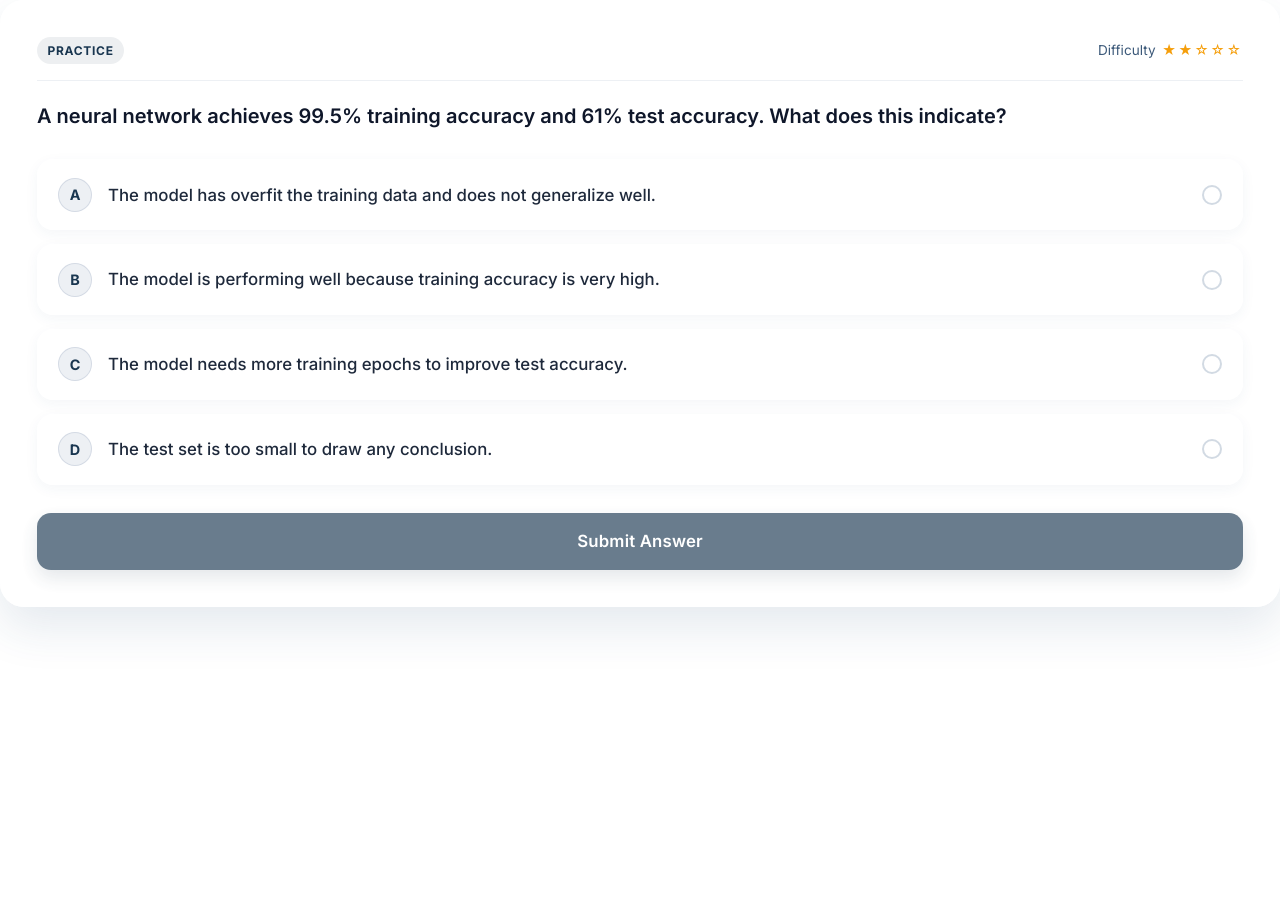
Test: Module 5: Answer Submission Component Tests › renders correct result banner and option styling on correct answer
This screenshot has width=1280, height=900.
Note: Select option 1
What coordinates should you click on to do the following:
click the radio button with aria-label "Option A: The model has overfit the training data and does n"
I would click on:
 (640, 195)
Its box is top-left (37, 159), bottom-right (1243, 230).
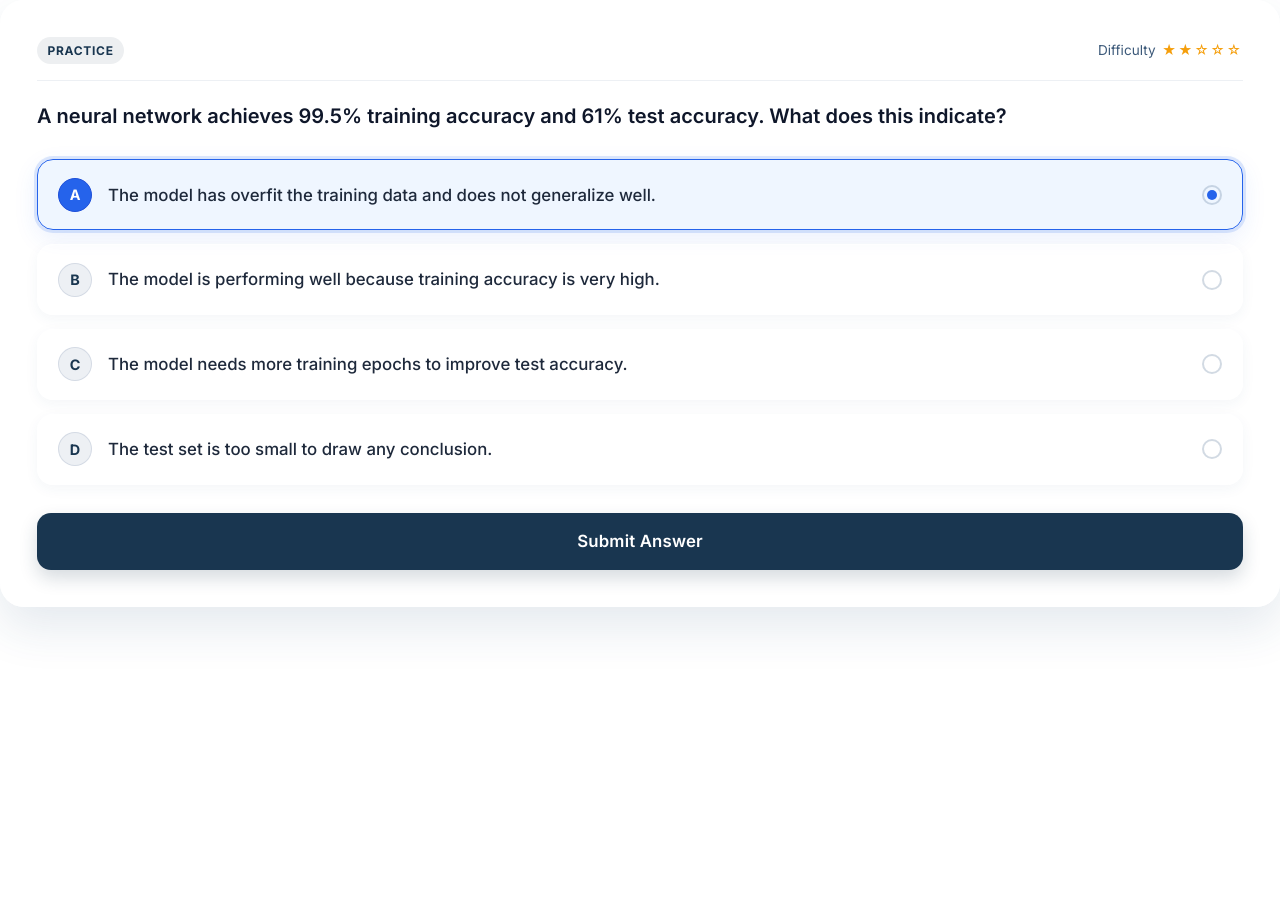
What coordinates should you click on to do the following:
click the button "Submit Answer"
I would click on:
 (640, 541)
Its box is top-left (37, 513), bottom-right (1243, 570).
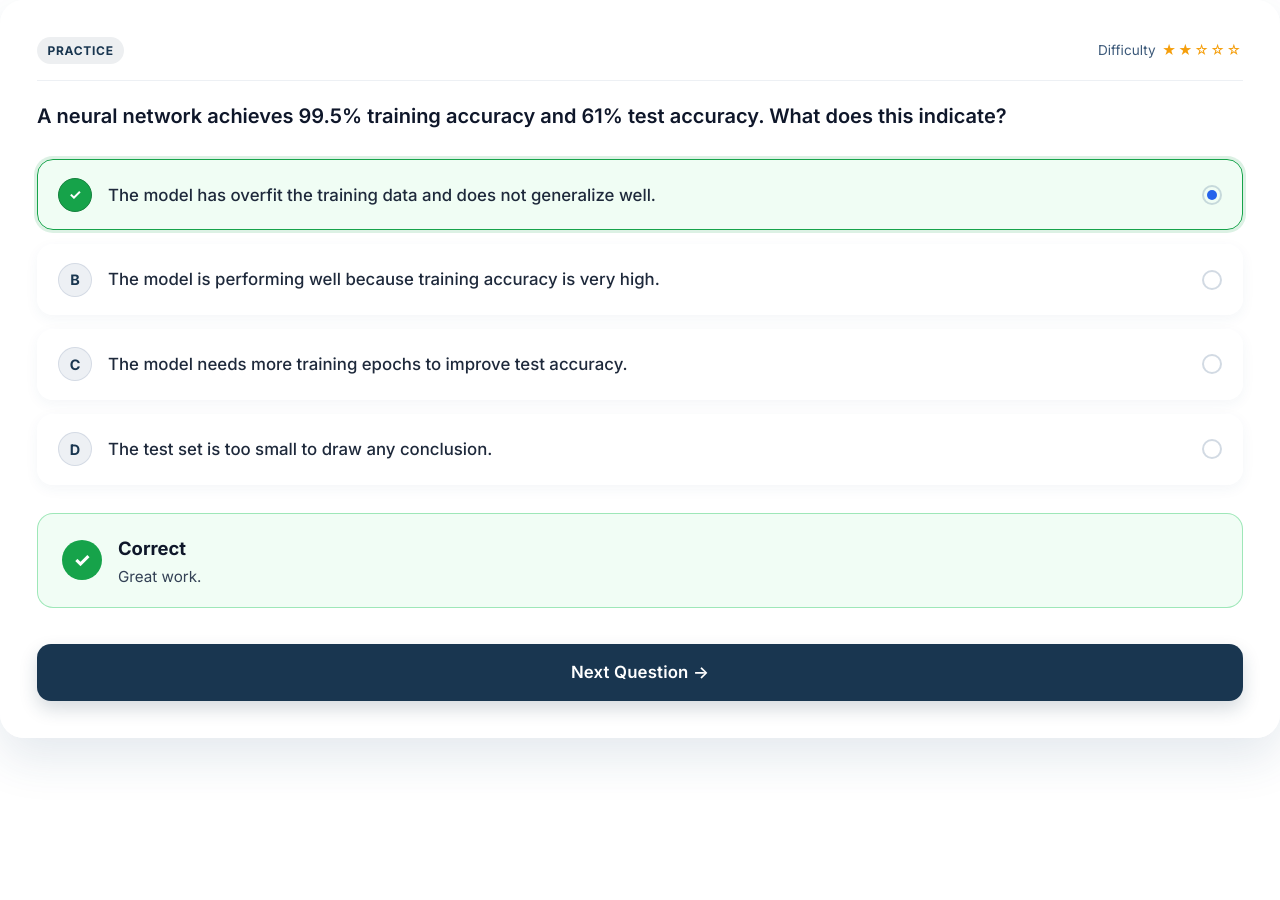
Expected: the message "✓ Correct Great work." is shown, top-left (37, 513), bottom-right (1243, 608)
Expected: the heading "Correct" is shown, top-left (118, 537), bottom-right (186, 559)
Expected: the text "Great work." is shown, top-left (118, 566), bottom-right (202, 587)
